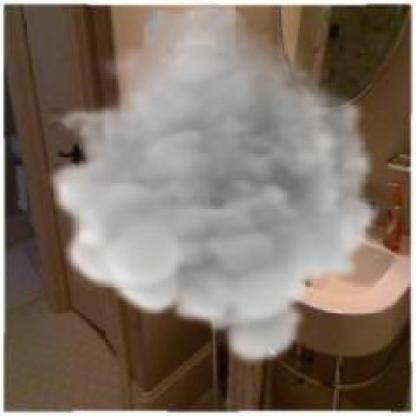Smoke: (46, 2, 380, 367)
